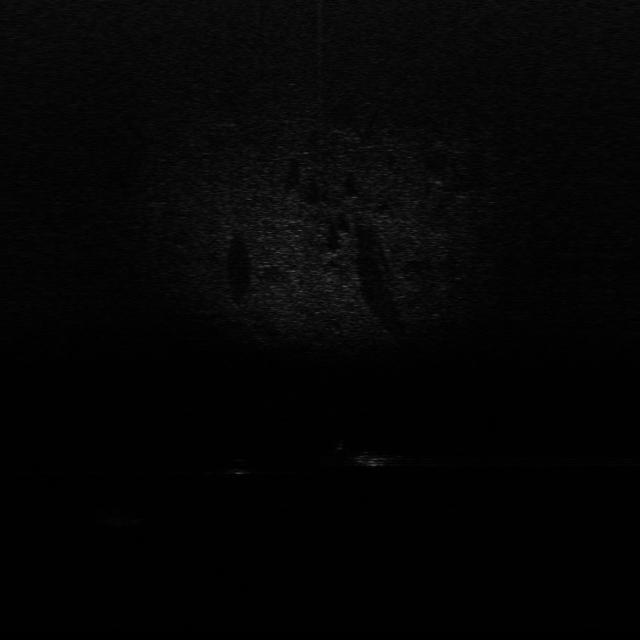ball: (220, 457, 256, 478)
circle cage: (327, 438, 413, 470), (94, 503, 148, 528)
